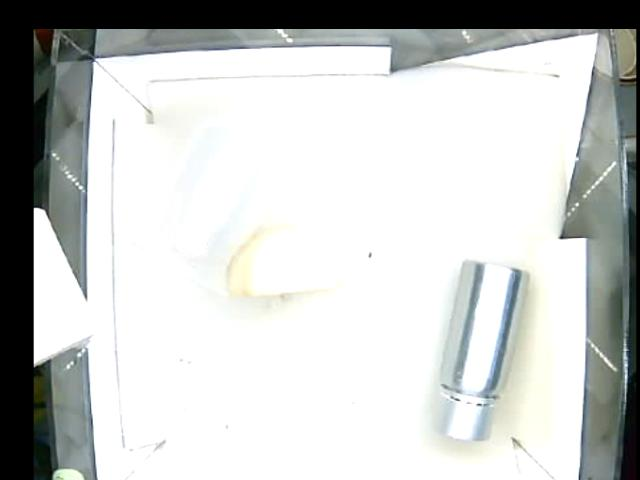Bottle: (133, 126, 270, 286), (438, 260, 529, 449)
Mooli: (224, 224, 347, 293)
